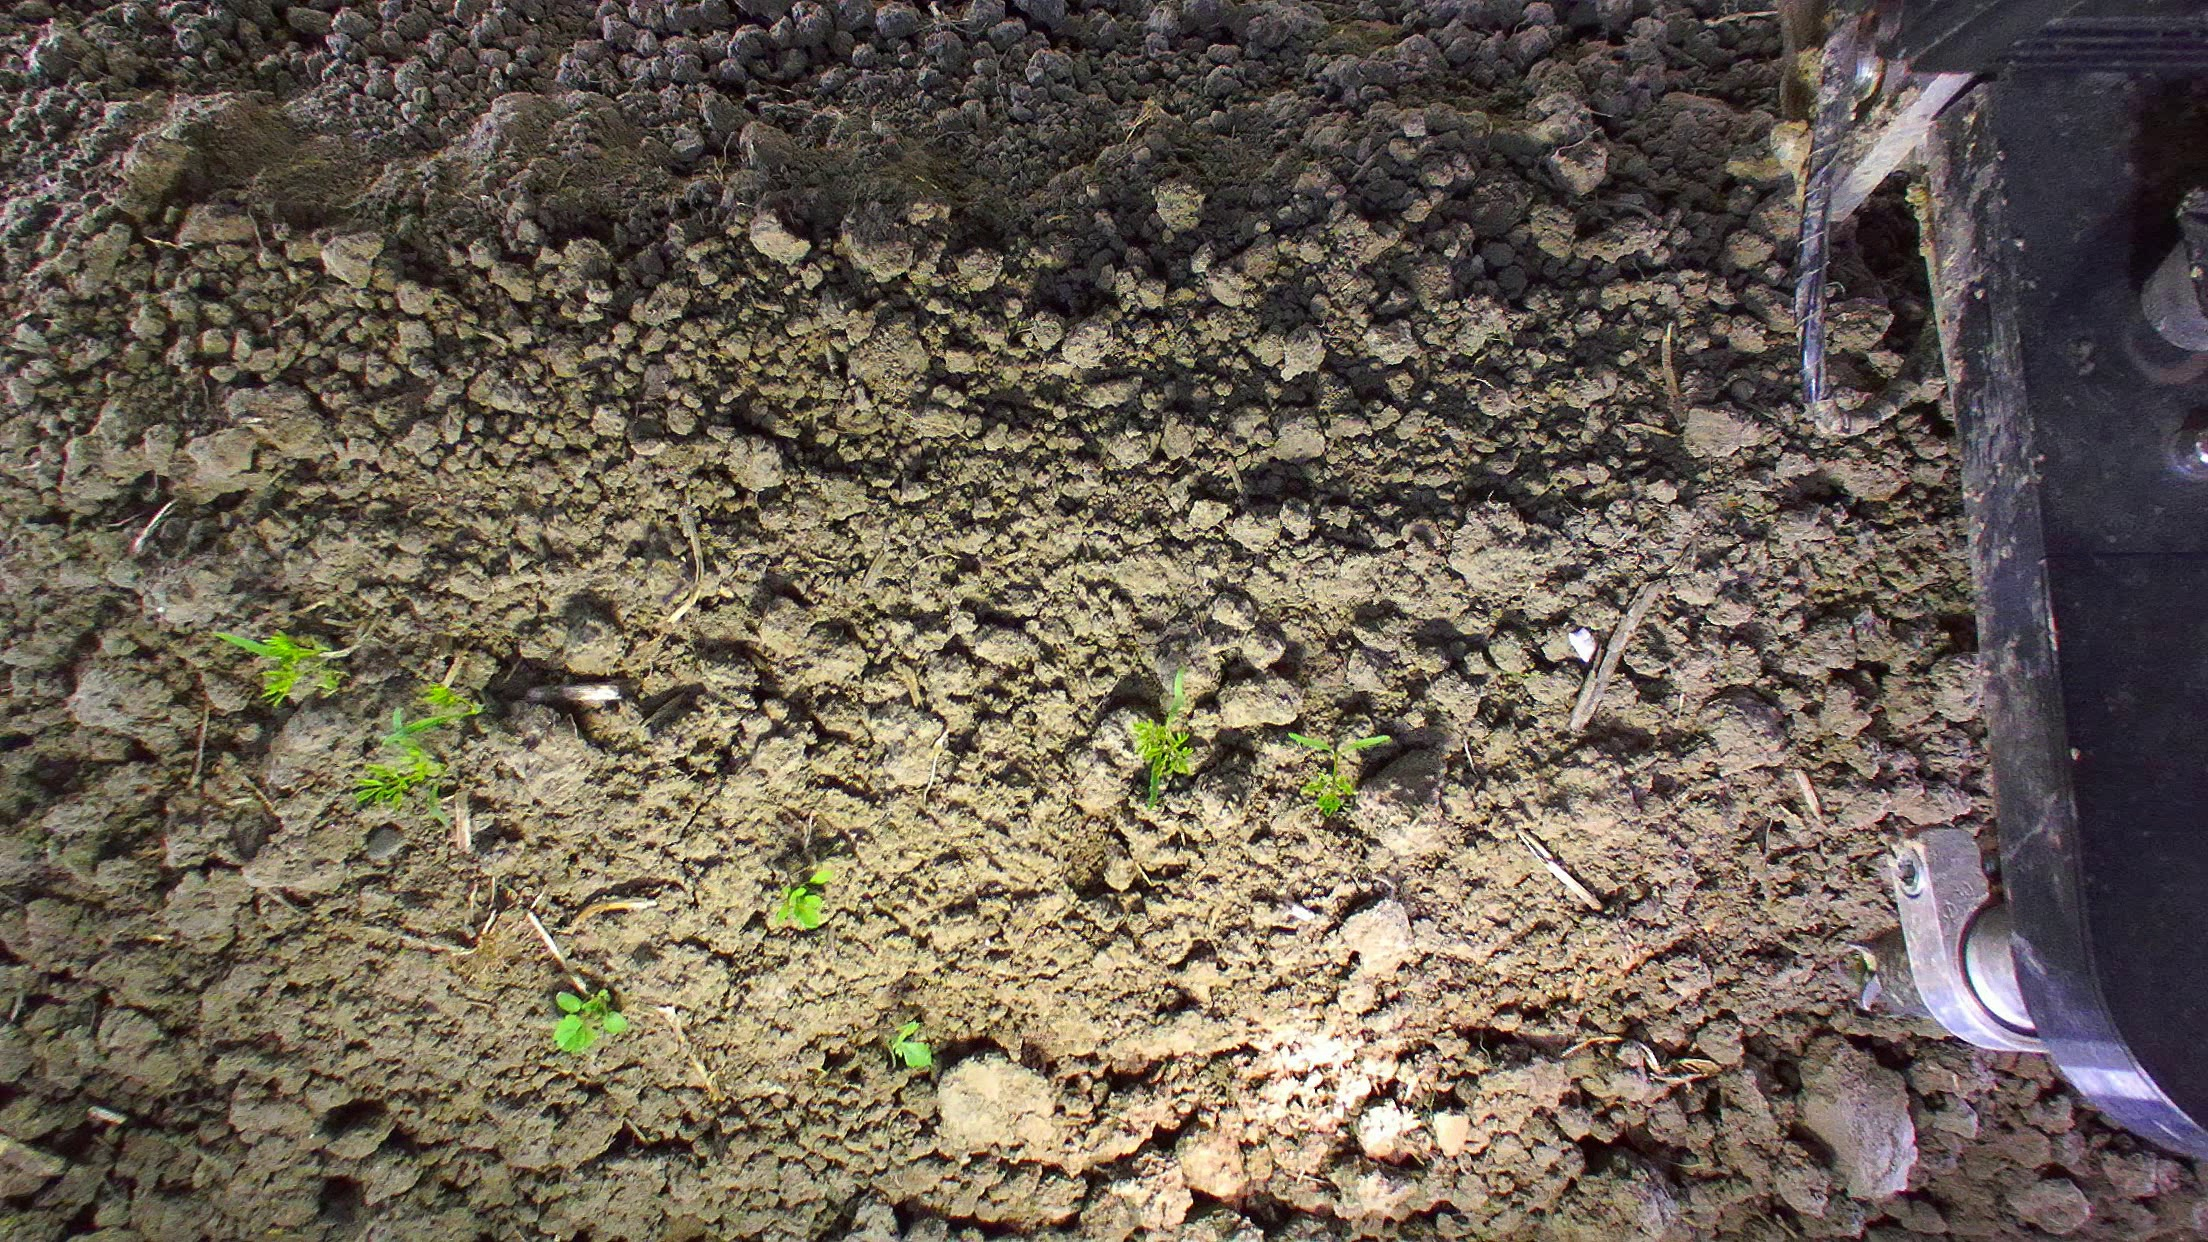Crop: (349, 679, 488, 825), (209, 626, 343, 710), (1128, 687, 1197, 813), (1297, 763, 1356, 819)
Weed: (547, 986, 632, 1059), (772, 867, 836, 933), (877, 1016, 939, 1071)
